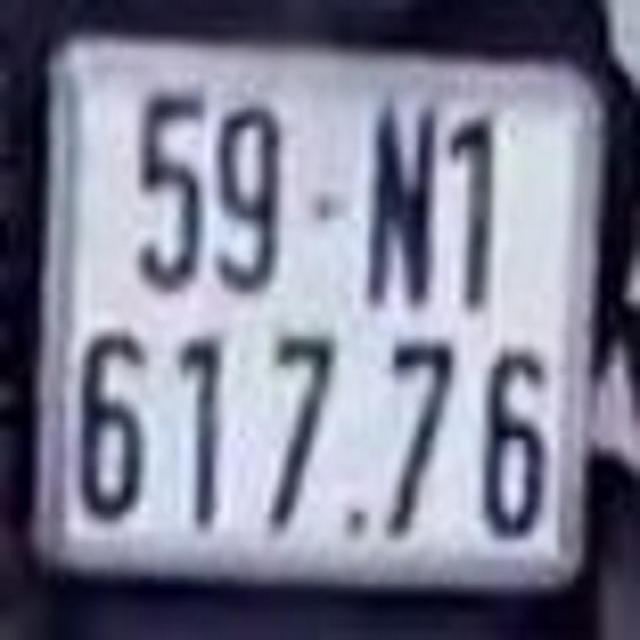1: (451, 114, 495, 313), (177, 330, 217, 528)
5: (136, 87, 204, 289)
6: (76, 329, 146, 522), (487, 344, 544, 541)
7: (390, 338, 453, 537), (271, 328, 333, 528)
9: (215, 105, 283, 296)
N: (363, 93, 437, 310)
